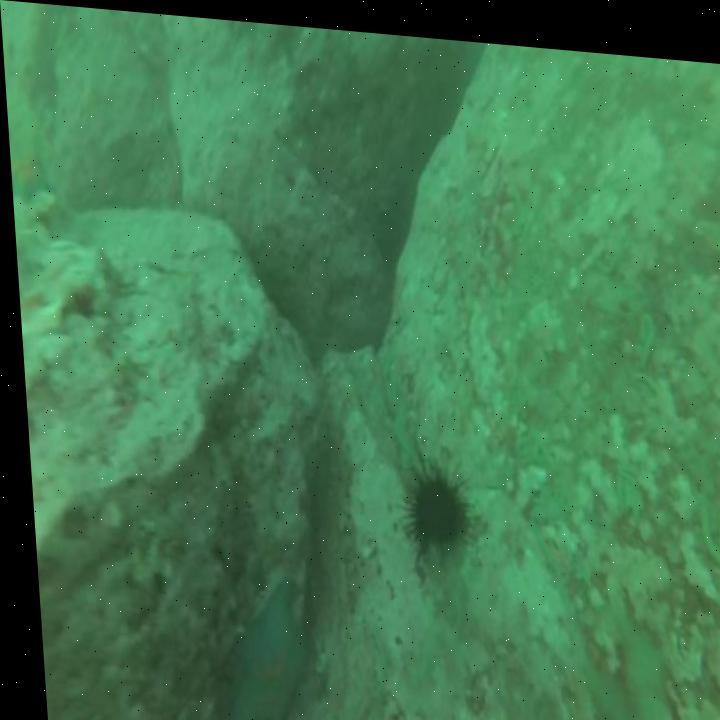echinus: (390, 444, 473, 568)
starfish: (217, 575, 304, 720)
